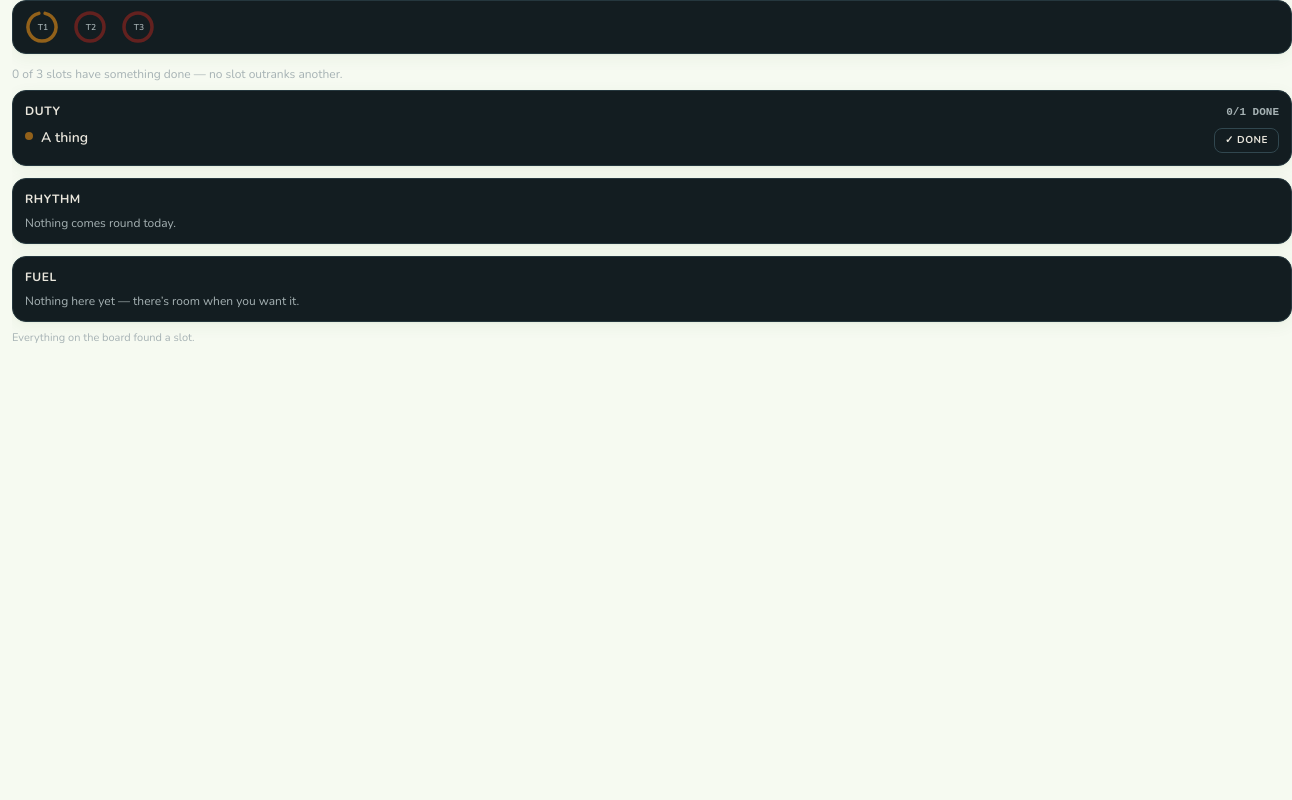
Test: SlotBoard — undo-grace holds the write (option (a), board layer) › the scoreline counts the completion immediately, wherever the row renders
The image size is (1292, 800).
Expected: the text with test id "board-balance" reads "0 of 3 slots have something done — no slot outranks another.", [12,66,342,82]
Click the button with test id "board-complete": point(1246, 140) [1214,128,1279,153]
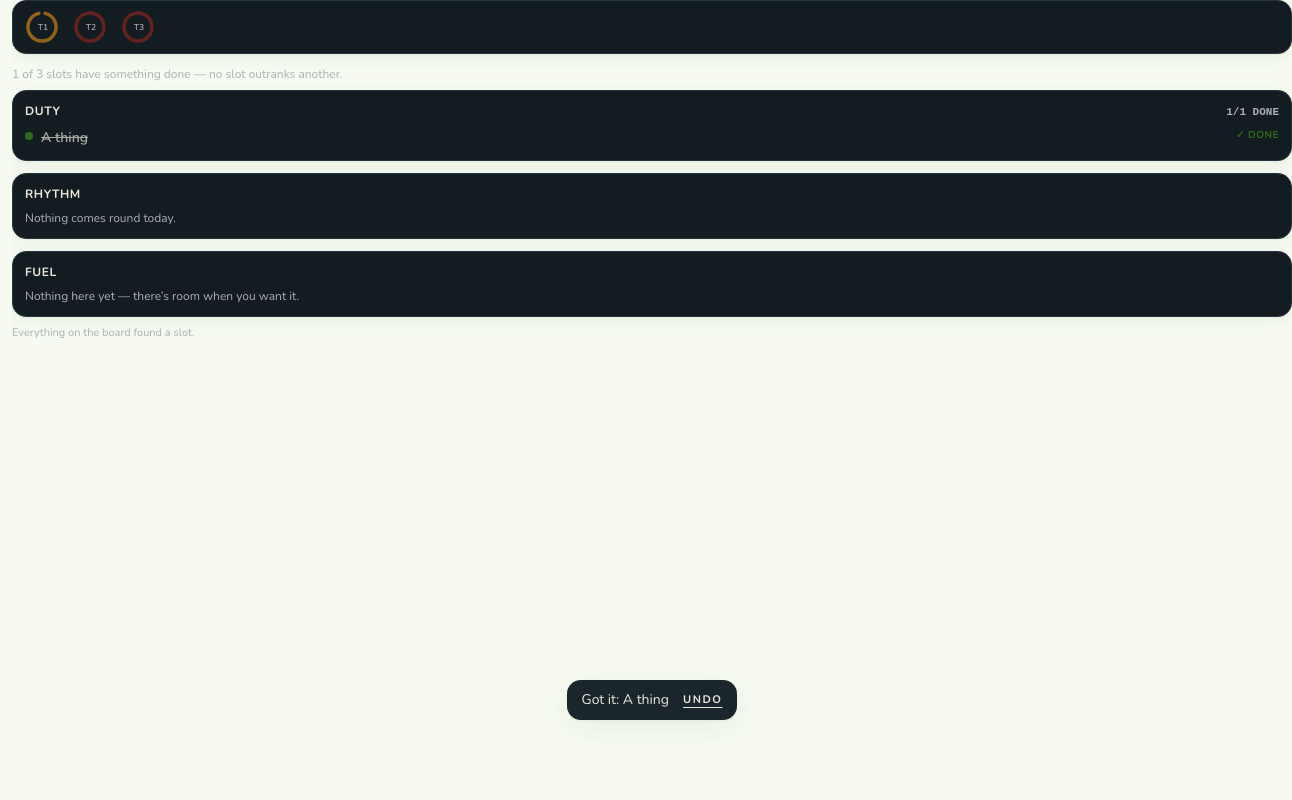
Expected: the text with test id "board-balance" reads "1 of 3 slots have something done — no slot outranks another.", [12,66,342,82]
Expected: the text with test id "board-stack-score-duty" reads "1/1 done", [1226,104,1279,120]
